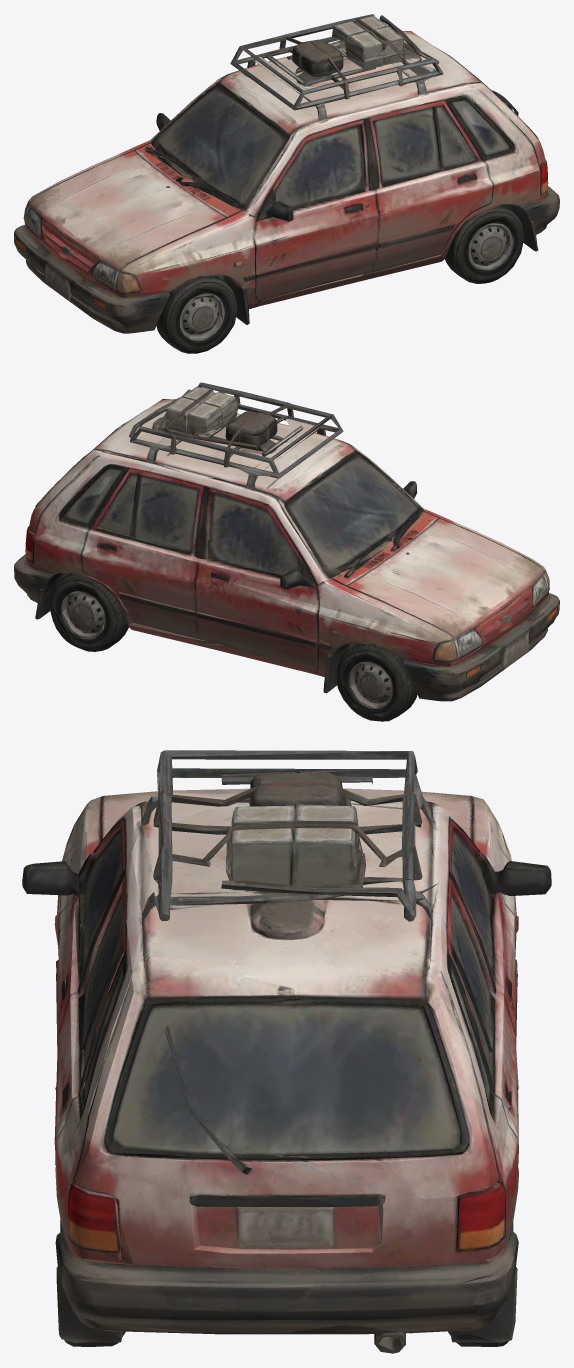
The model's file is parked_car.glb.
3 renders of one model, top to bottom at view 1: azimuth 30°, elevation 25°; view 2: azimuth 150°, elevation 25°; view 3: azimuth 270°, elevation 25°, orthographic. The views are drawn at different scales.
Size of the model in its own units: 1.9 by 0.9046 by 0.9513.
Materials: 1 (1 with a texture image).
